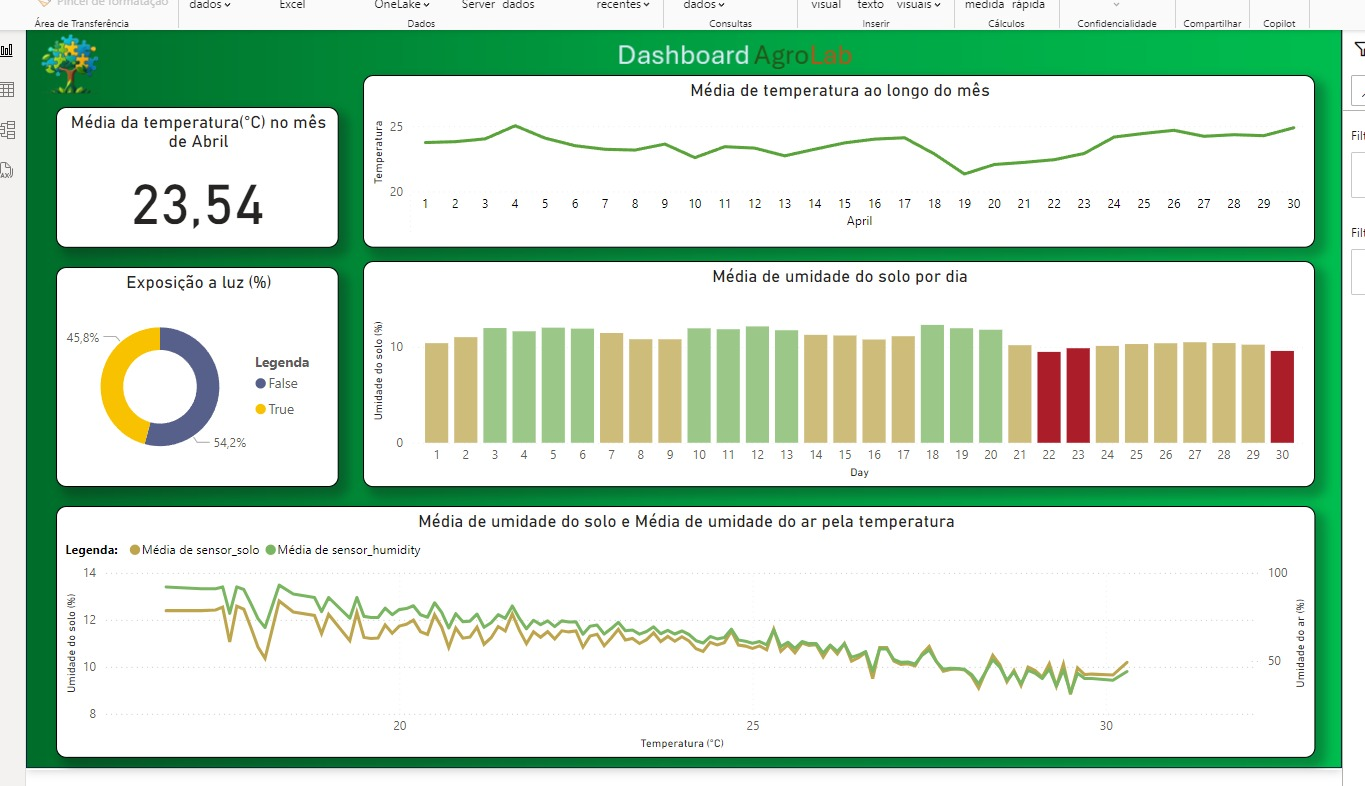

What the dashboard file says about the page in this screenshot:
{"tool":"powerbi","page":{"name":"Page 1","canvas":[1280,720],"ordinal":0},"visuals":[{"type":"card","title":"Média da temperatura(°C) no mês de Abril","fields":{"Values":["Avg(Planilha-Agrolab.sensor_temperature)"]},"box":[29.2,74.9,275.3,137.1],"z":0},{"type":"lineChart","title":"Média de temperatura ao longo do mês","fields":{"Category":["Planilha-Agrolab.data_criacao.Variation.Date Hierarchy.Month","Planilha-Agrolab.data_criacao.Variation.Date Hierarchy.Day"],"Y":["Avg(Planilha-Agrolab.sensor_temperature)"]},"box":[327.8,43.8,926,168.3],"z":1000},{"type":"columnChart","title":"Média de umidade do solo por dia","fields":{"Y":["Avg(Planilha-Agrolab.sensor_solo)"],"Category":["Planilha-Agrolab.data_criacao.Variation.Date Hierarchy.Day"]},"box":[327.8,224.7,926,219.8],"z":2000},{"type":"lineChart","title":"Média de umidade do solo e Média de umidade do ar pela temperatura","fields":{"Y2":["Avg(Planilha-Agrolab.sensor_humidity)"],"Category":["Planilha-Agrolab.sensor_temperature"],"Y":["Avg(Planilha-Agrolab.sensor_solo)"]},"box":[29.2,463,1224.6,245.1],"z":2001},{"type":"donutChart","title":"Exposição a luz (%)","fields":{"Category":["Planilha-Agrolab.lumen"],"Y":["CountNonNull(Planilha-Agrolab.lumen)"]},"box":[29.2,230.5,275.3,214],"z":2002}]}

Visuals, with their boxes in screenshot pixels (x1, y1, x2, y2):
"Média da temperatura(°C) no mês de Abril" card: 20 97 310 241
"Média de temperatura ao longo do mês" lineChart: 334 64 1308 241
"Média de umidade do solo por dia" columnChart: 334 254 1308 485
"Média de umidade do solo e Média de umidade do ar pela temperatura" lineChart: 20 505 1308 762
"Exposição a luz (%)" donutChart: 20 260 310 485
